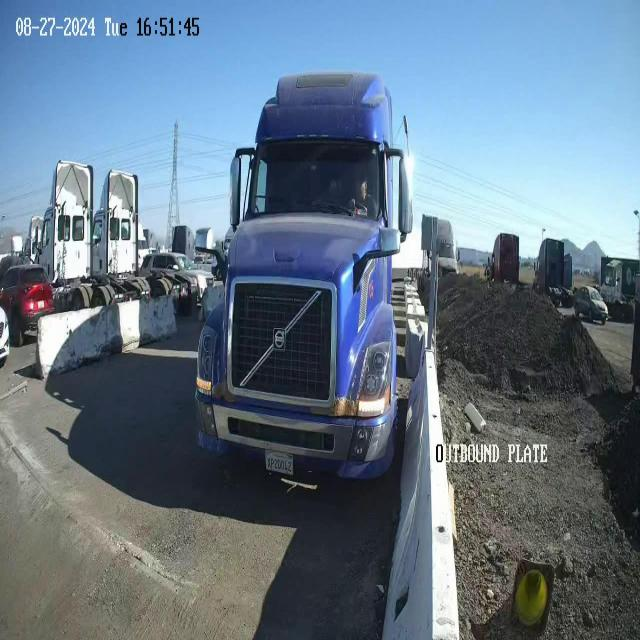TRUCK_OUT: (194, 70, 418, 486)
